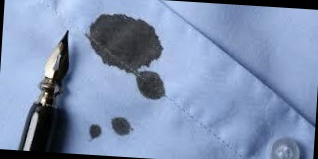ink: (86, 12, 163, 71), (136, 72, 165, 100), (111, 117, 133, 135), (88, 124, 101, 138)
